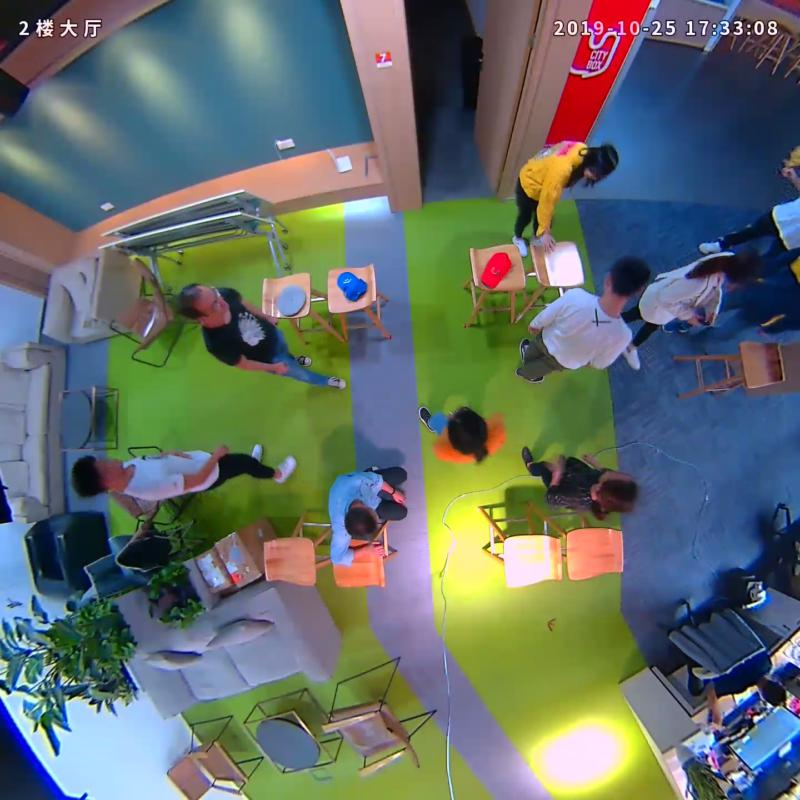head: (592, 248, 658, 316), (588, 463, 653, 519), (64, 449, 134, 499), (172, 279, 233, 334), (440, 401, 494, 457), (572, 140, 629, 183), (719, 244, 765, 293), (339, 503, 387, 545)
